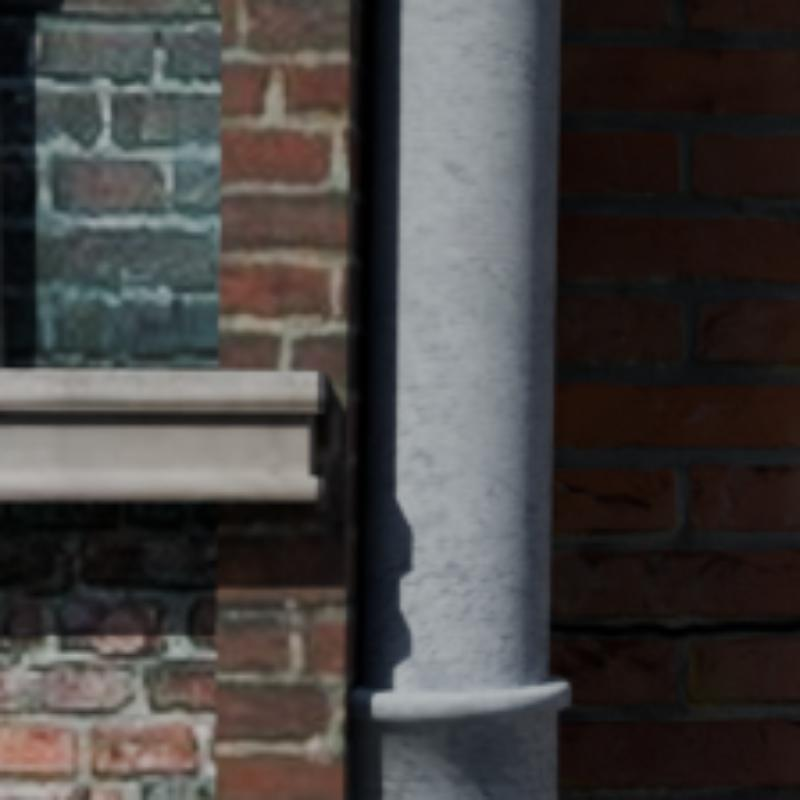crack: (550, 621, 796, 632)
